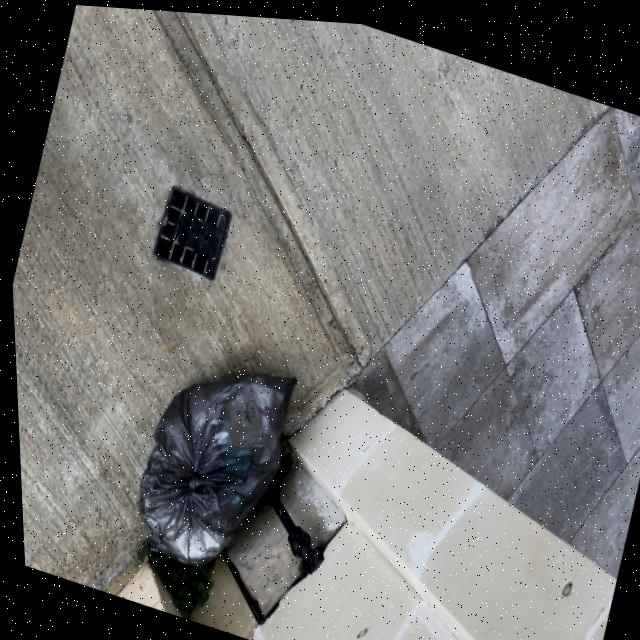Mixed Waste -Black Bag-: (111, 334, 301, 592)
